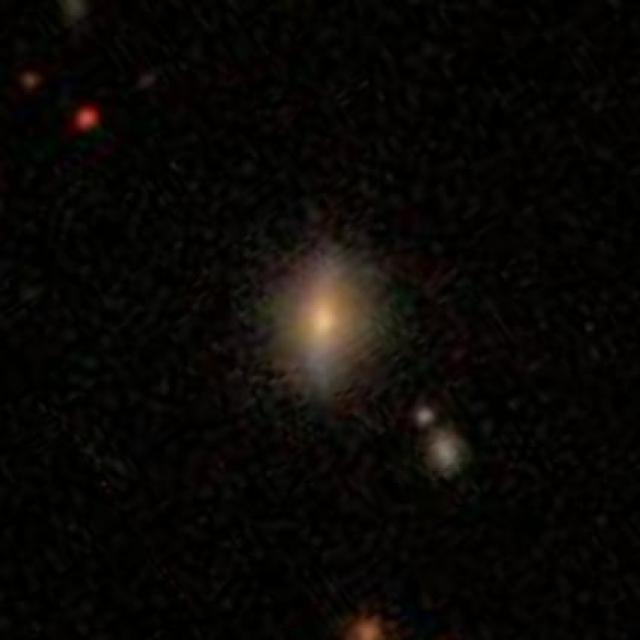galaxy: (255, 214, 396, 409), (427, 433, 468, 481), (336, 615, 396, 640), (68, 103, 99, 138), (12, 67, 48, 97), (414, 407, 444, 435), (133, 69, 158, 93)
